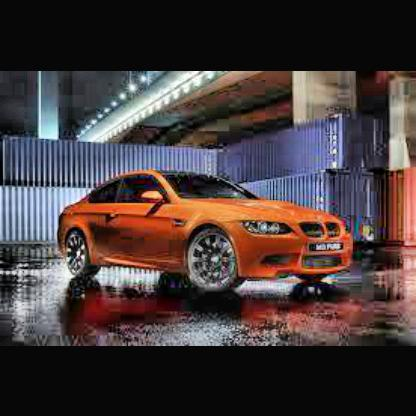BMW M3 Coupe 2012: (56, 163, 355, 289)
